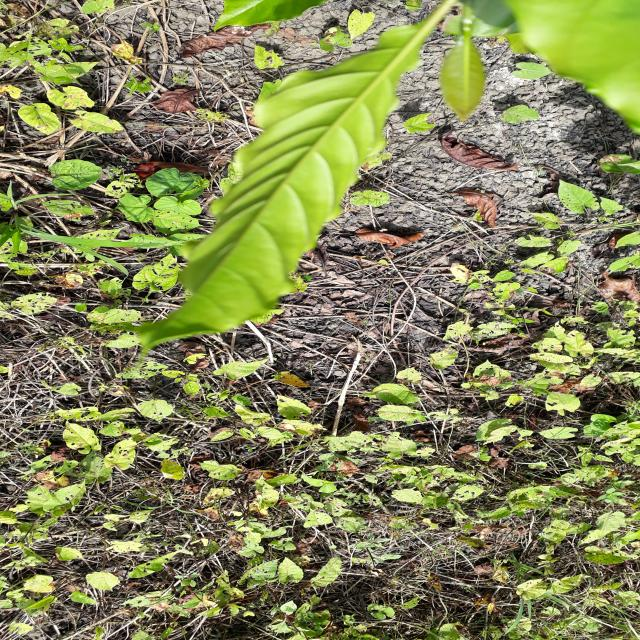Sanas: (138, 0, 461, 350)
